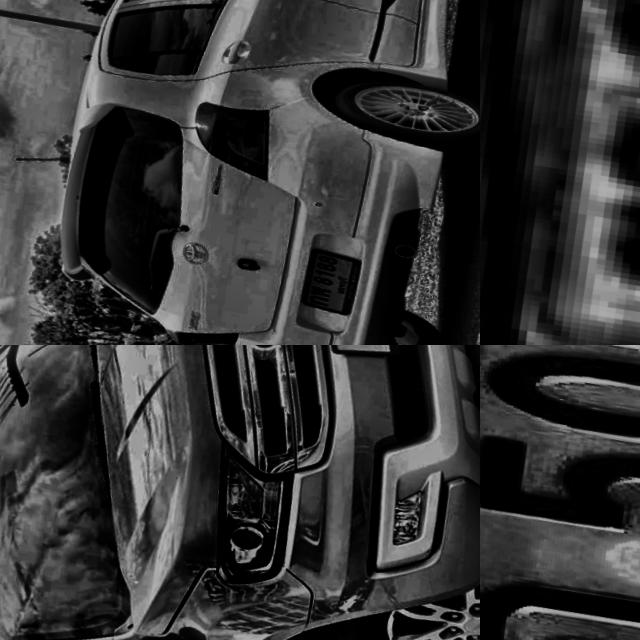license-plate: (480, 0, 640, 345), (480, 345, 640, 640), (284, 239, 373, 333), (295, 345, 420, 371)
